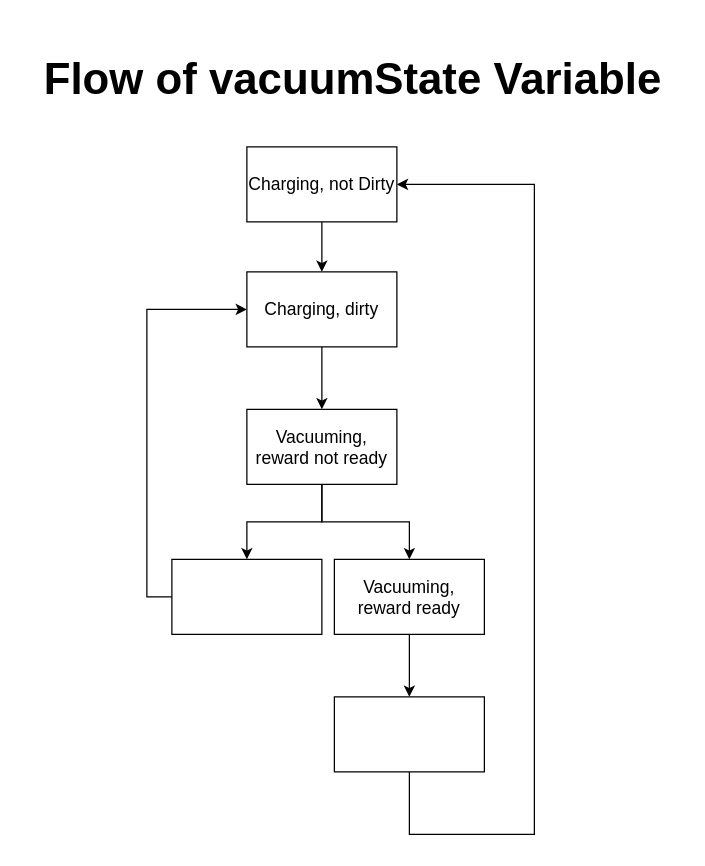
Some shapes in this 705 by 866 pixel diagram are drawn without their labels. Here are the shapes that lost their labels. From the top down, the centre of each, then its label:
At pixel 246 596: "Stopped Vacuuming early".
At pixel 408 734: "Vacuuming Complete, take reward".
